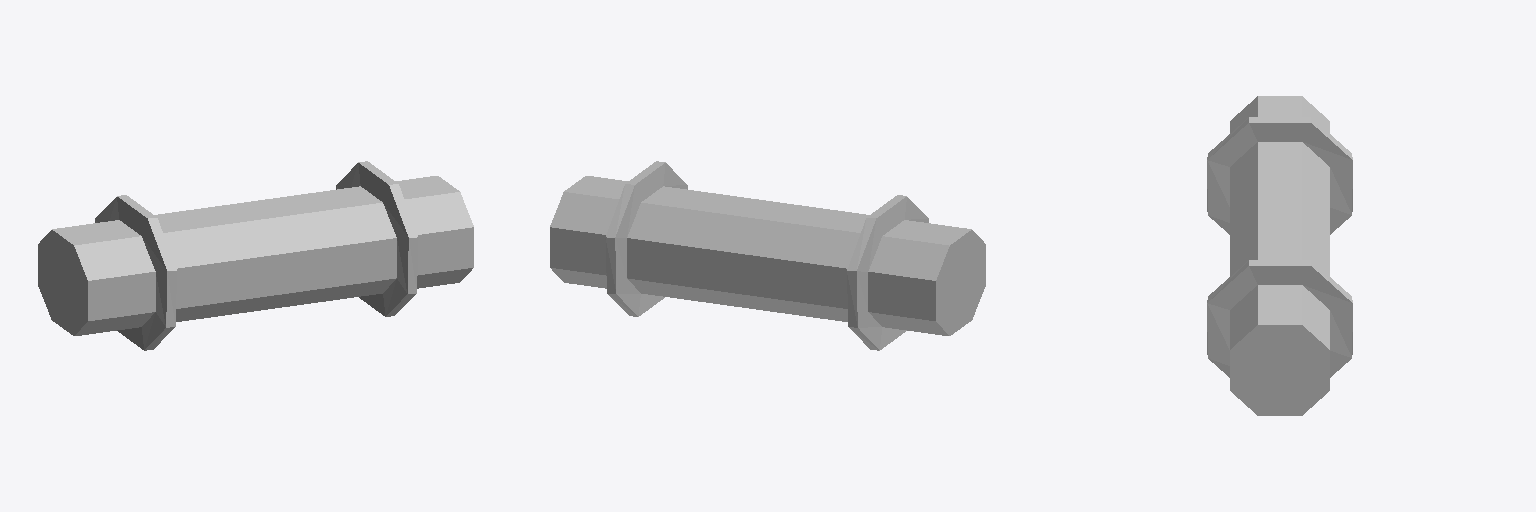
The model's file is rotarykiln_tube.obj.
The picture shows the model from 3 angles: view 1: azimuth 30°, elevation 25°; view 2: azimuth 150°, elevation 25°; view 3: azimuth 270°, elevation 25°; orthographic projection.
Visible parts, largest first — view 1: Tube_Cube.002; view 2: Tube_Cube.002; view 3: Tube_Cube.002.
Part boxes in pixels (left/top/right/bottom): Tube_Cube.002: left=38, top=161, right=473, bottom=350; Tube_Cube.002: left=550, top=161, right=985, bottom=350; Tube_Cube.002: left=1207, top=96, right=1352, bottom=415.
Size of the model in its own units: 5 by 1.95 by 1.63.